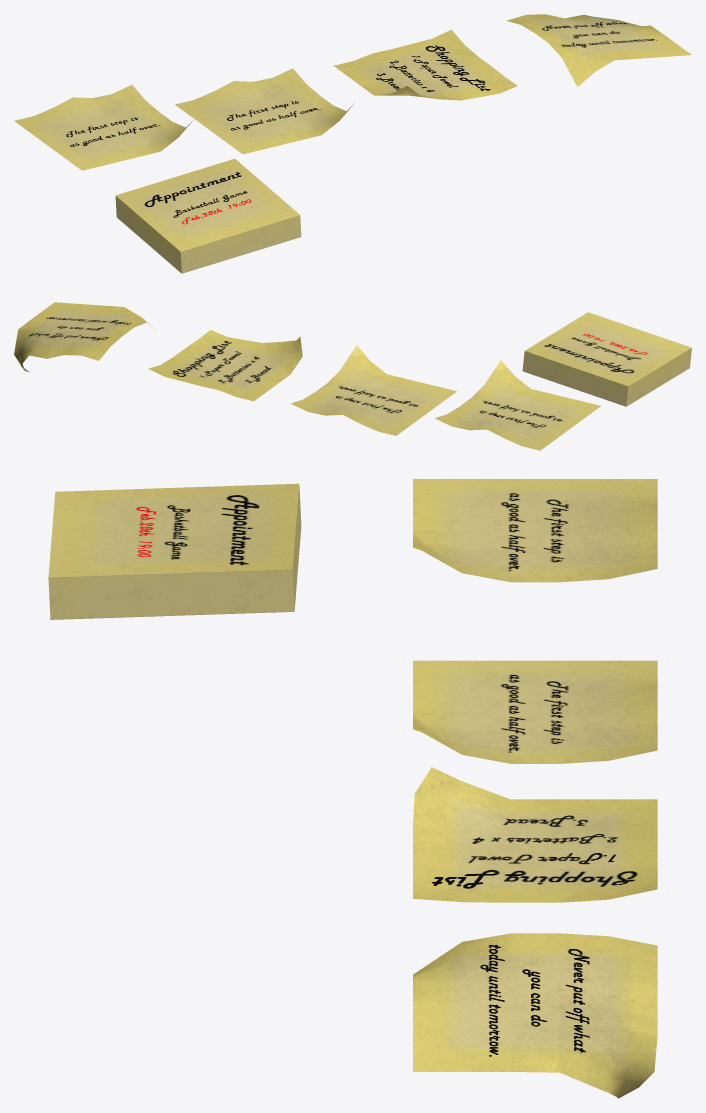
Rendered from memo4.fbx.
3 views of the same model, one above another, from view 1: azimuth 30°, elevation 25°; view 2: azimuth 150°, elevation 25°; view 3: azimuth 270°, elevation 25° (orthographic). The views are drawn at different scales.
Parts seen in each view (by area): view 1: SM_post_it_notes.001, SM_post_it_notes, SM_post_it_notes.004, SM_post_it_notes.002, SM_post_it_notes.003; view 2: SM_post_it_notes.001, SM_post_it_notes.004, SM_post_it_notes, SM_post_it_notes.002, SM_post_it_notes.003; view 3: SM_post_it_notes.003, SM_post_it_notes.001, SM_post_it_notes.002, SM_post_it_notes, SM_post_it_notes.004.
Part boxes in pixels (box(x1,y1,x2,y2)): SM_post_it_notes.001: box(115, 158, 301, 273); SM_post_it_notes: box(175, 68, 354, 154); SM_post_it_notes.004: box(14, 85, 193, 170); SM_post_it_notes.002: box(333, 29, 517, 100); SM_post_it_notes.003: box(506, 14, 691, 87); SM_post_it_notes.001: box(522, 312, 691, 406); SM_post_it_notes.004: box(435, 360, 600, 450); SM_post_it_notes: box(291, 345, 456, 435); SM_post_it_notes.002: box(148, 330, 302, 401); SM_post_it_notes.003: box(14, 302, 154, 372); SM_post_it_notes.003: box(413, 933, 657, 1098); SM_post_it_notes.001: box(48, 483, 301, 619); SM_post_it_notes.002: box(413, 767, 657, 902); SM_post_it_notes: box(413, 660, 657, 763); SM_post_it_notes.004: box(413, 479, 657, 582).
Size of the model in its own units: 39.33 by 5.34 by 18.94.
Materials: 1 (1 with a texture image).
